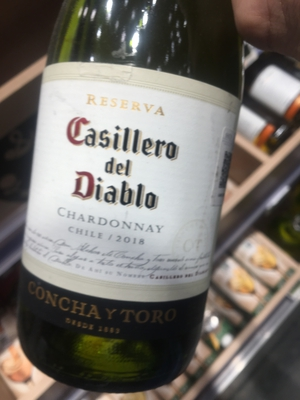casillero del diablo chardonnay: (22, 17, 241, 382)
